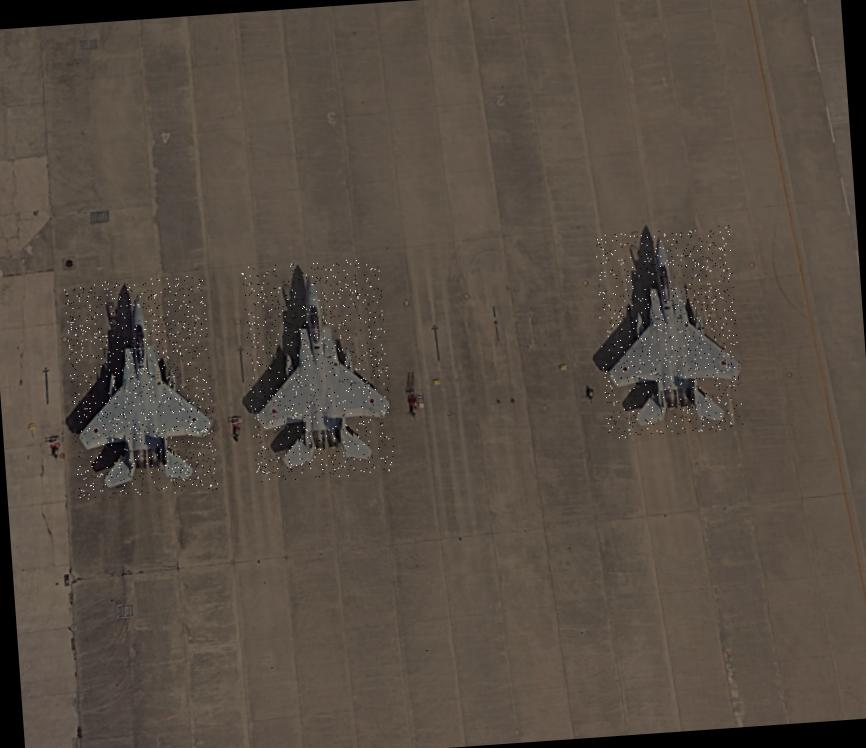A13: (64, 275, 219, 500), (241, 258, 396, 482), (594, 225, 743, 439)
